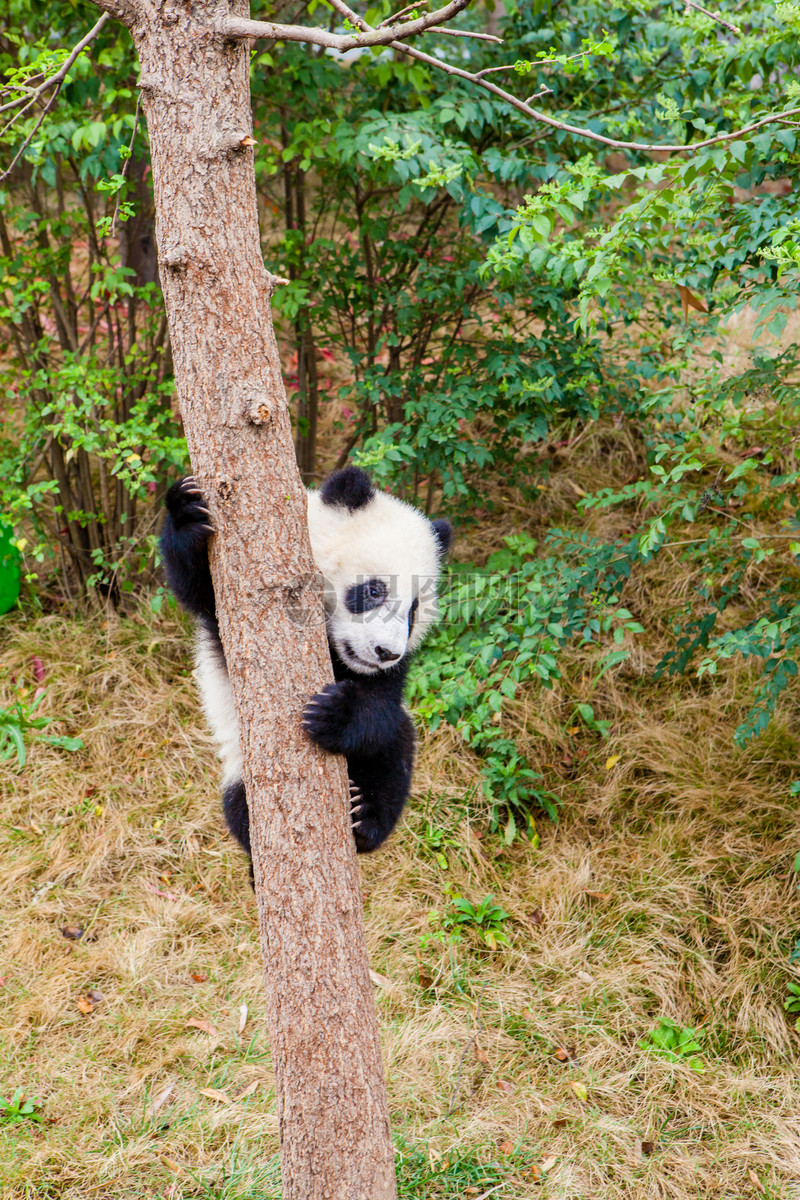panda: (153, 415, 470, 853)
